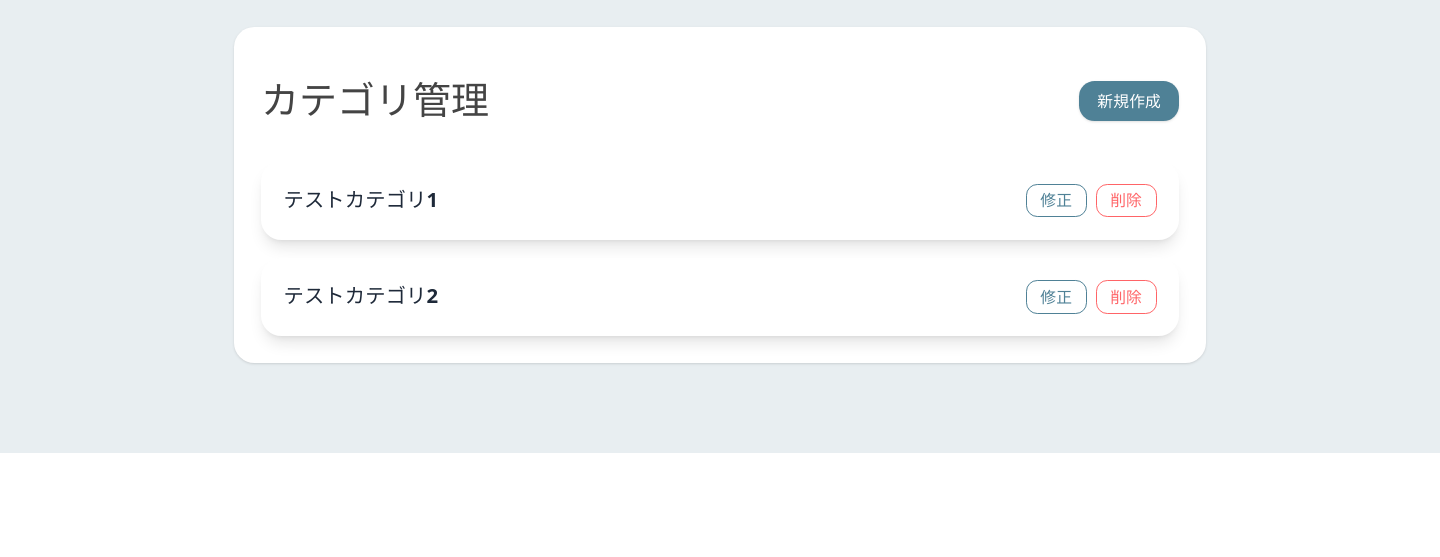
Test case: CategoryManage › 修正ボタンをクリックすると編集画面に遷移する
Click the button "修正" in the row of "テストカテゴリ1" at coordinates (1056, 200), box [1026,184,1087,217]
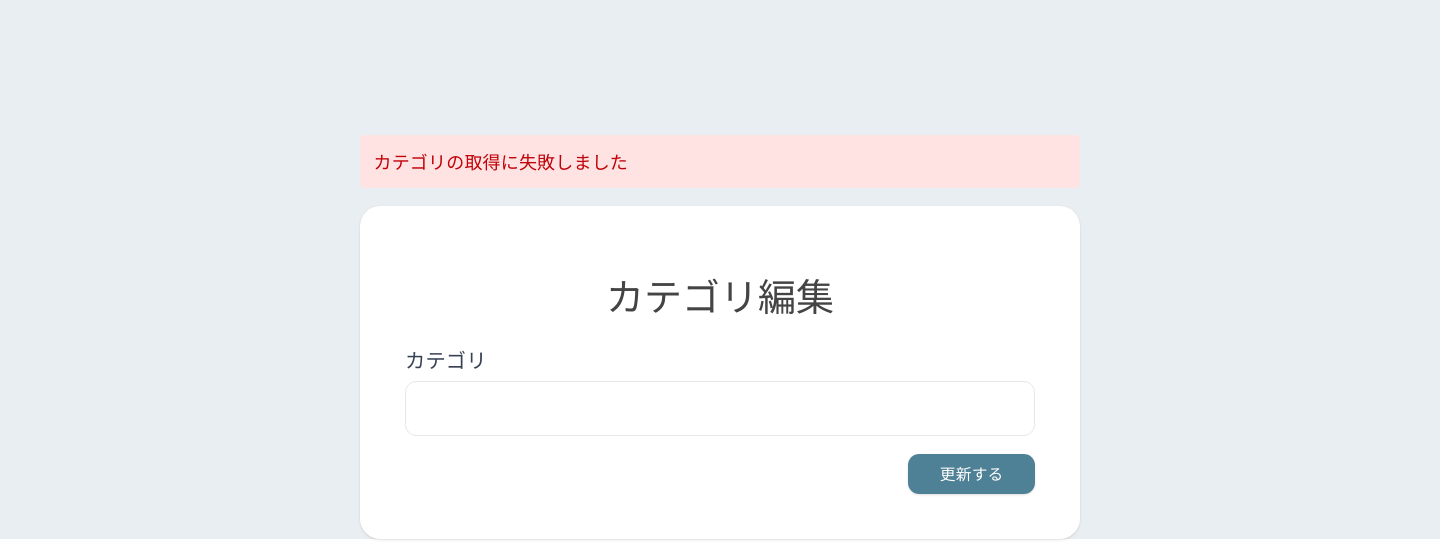
Result: the heading "カテゴリ編集" is shown at [606,270,834,322]
